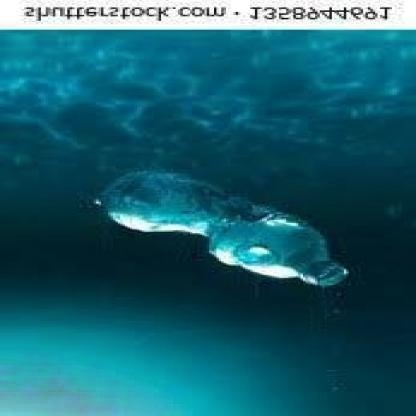pbottle: (94, 162, 353, 294)
